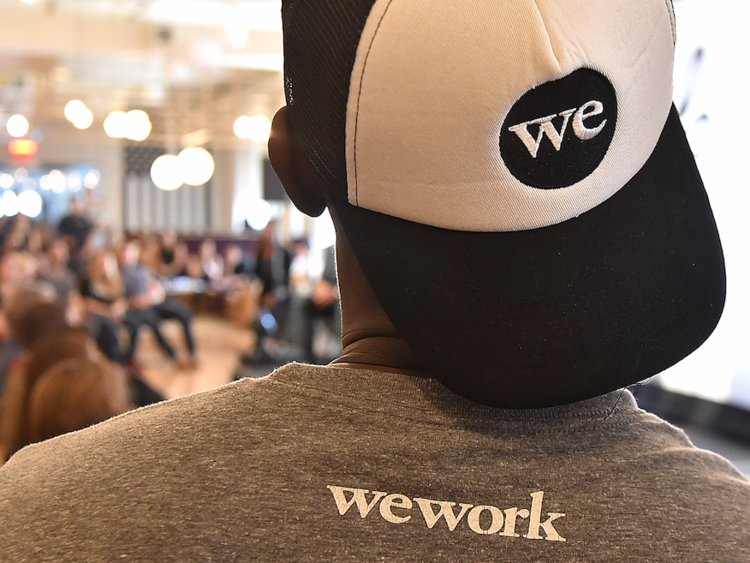wework: (323, 474, 572, 545), (496, 65, 620, 192)
